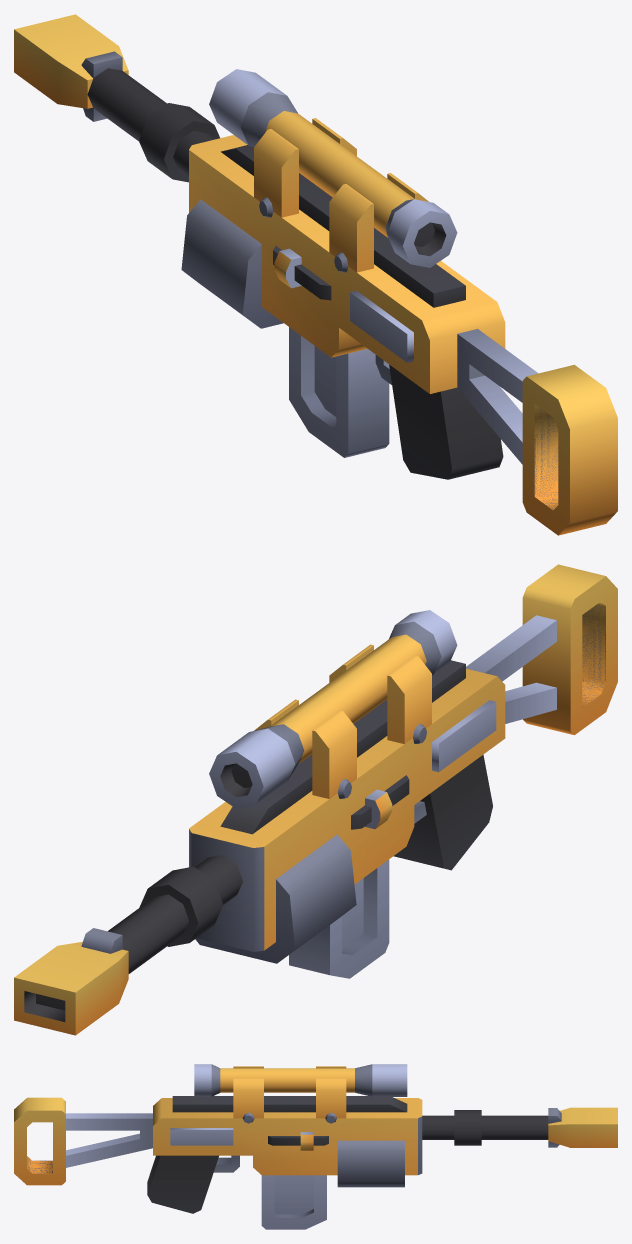
Rendered from blaster-e.glb.
3 renders of one model, top to bottom at view 1: azimuth 30°, elevation 25°; view 2: azimuth 150°, elevation 25°; view 3: azimuth 270°, elevation 25°, orthographic. The views are drawn at different scales.
Visible parts, largest first — view 1: blaster-e; view 2: blaster-e; view 3: blaster-e.
Part boxes in pixels (left/top/right/bottom): blaster-e: left=14, top=14, right=617, bottom=535; blaster-e: left=14, top=564, right=617, bottom=1035; blaster-e: left=14, top=1064, right=617, bottom=1229.
Bounding box in the file's own units: 0.1664 × 0.405 × 1.39.
Materials: 1 (1 with a texture image).
